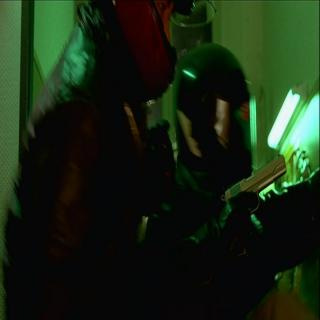gun: (219, 149, 287, 263)
